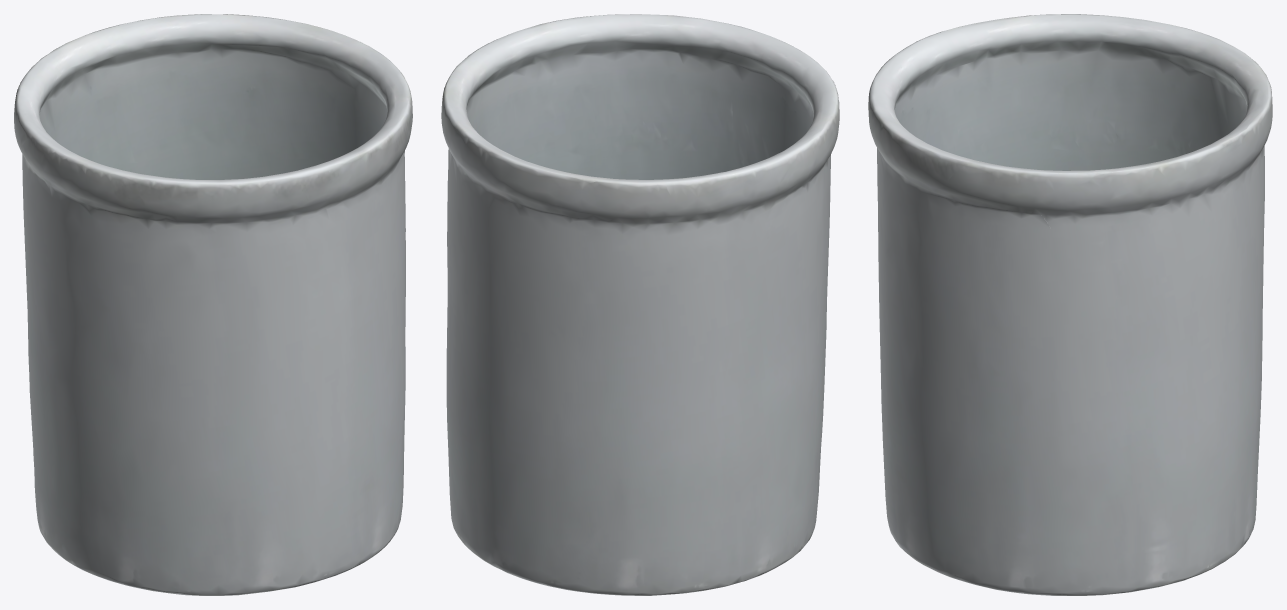
File: BIA_Cordon_Bleu_White_Porcelain_Utensil_Holder_900028.glb
3 views of the same model, side by side, from view 1: azimuth 30°, elevation 25°; view 2: azimuth 150°, elevation 25°; view 3: azimuth 270°, elevation 25° (orthographic).
Parts seen in each view (by area): view 1: BIA_Cordon_Bleu_White_Porcelain_Utensil_Holder_900028; view 2: BIA_Cordon_Bleu_White_Porcelain_Utensil_Holder_900028; view 3: BIA_Cordon_Bleu_White_Porcelain_Utensil_Holder_900028.
Boxes of the visible parts, x1,y1,x2,y2 form: BIA_Cordon_Bleu_White_Porcelain_Utensil_Holder_900028: (14, 14, 412, 595); BIA_Cordon_Bleu_White_Porcelain_Utensil_Holder_900028: (441, 14, 839, 595); BIA_Cordon_Bleu_White_Porcelain_Utensil_Holder_900028: (868, 14, 1272, 595).
Size of the model in its own units: 0.1476 by 0.1752 by 0.1488.
Materials: 1 (1 with a texture image).
